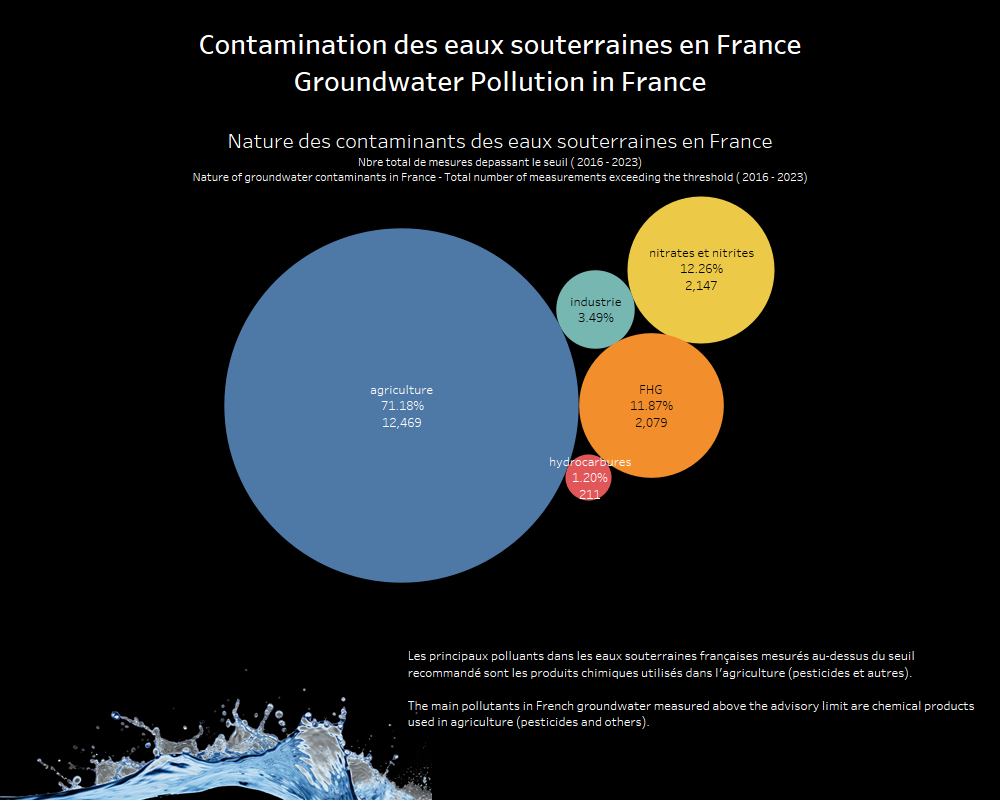

The page's visual inventory and layout, read from the dashboard file:
{"tool":"tableau","page":{"name":"contaminants","canvas":[1000,800],"ordinal":1},"visuals":[{"type":"text","box":[8,8,984,108]},{"type":"worksheet","title":"contaminants1","mark":"Circle","box":[8,116,984,471.1]},{"type":"image","param":"C:/Users/rober/Downloads/vecteezy_ai-generated-translucent-water-wave-in-light-b","box":[8,587.1,393,204.9]},{"type":"text","box":[401,587.1,591,204.9]}]}

Visuals, with their boxes in screenshot pixels (x1, y1, x2, y2), scaled from the page's 1000x800 canvas onto the 1000x800 screenshot:
text: (8,8,992,116)
"contaminants1" worksheet (Circle marks): (8,116,992,587)
image: (8,587,401,792)
text: (401,587,992,792)
